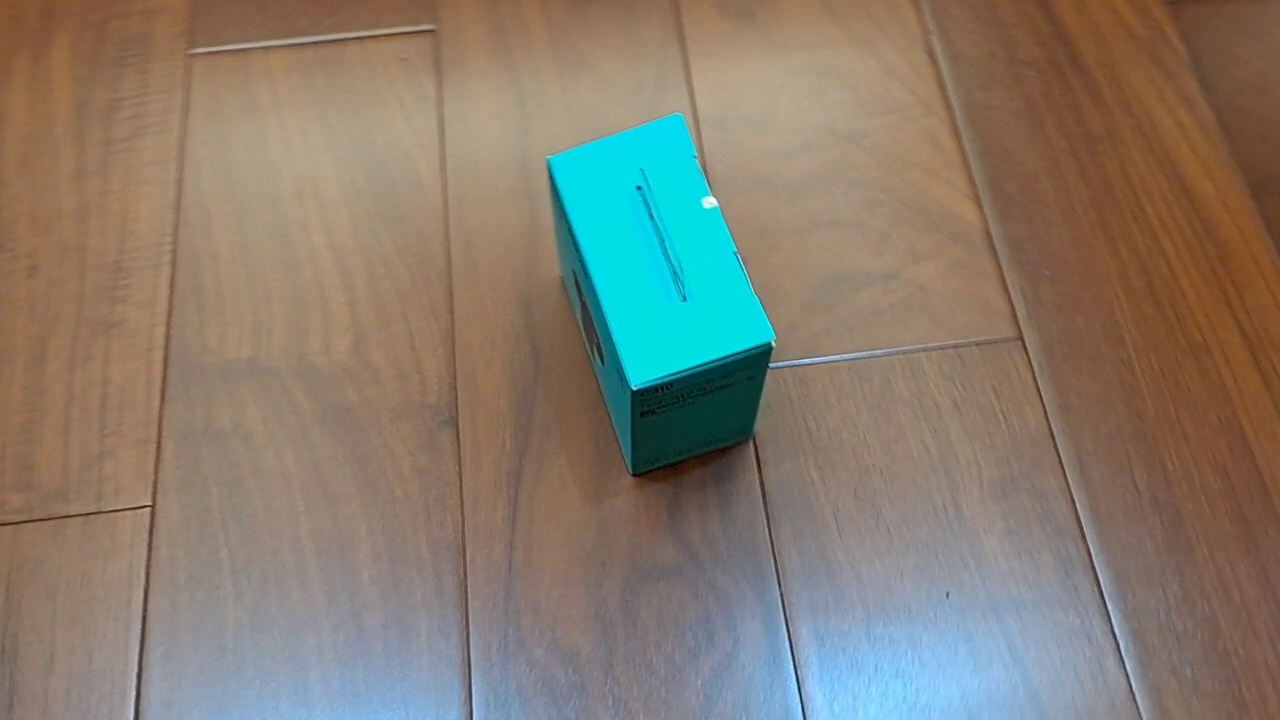webcam: (544, 111, 777, 478)
